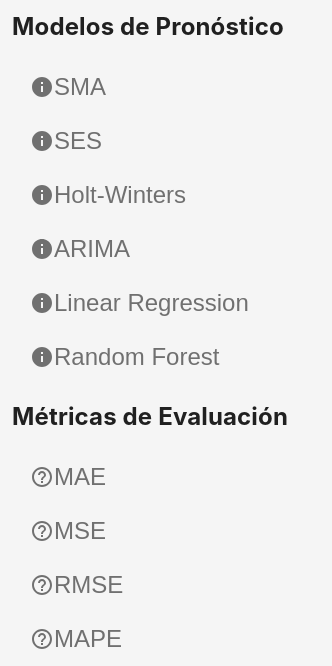
Test case: Tooltips and Informative Elements › Model Information Tooltips › displays tooltip for Holt-Winters model on hover
Hover over the button with aria-label "Información sobre Holt-Winters": {"x": 108, "y": 195} top-left (22, 173), bottom-right (194, 217)
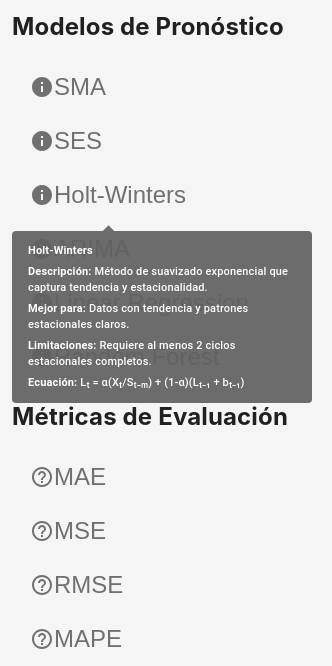
Check: the tooltip is shown, box top-left (12, 217), bottom-right (312, 403)
Check: the text "Método de suavizado exponencial que captura tendencia" is shown, box top-left (28, 264), bottom-right (288, 294)
Check: the text "Datos con tendencia y patrones estacionales" is shown, box top-left (28, 302), bottom-right (248, 331)
